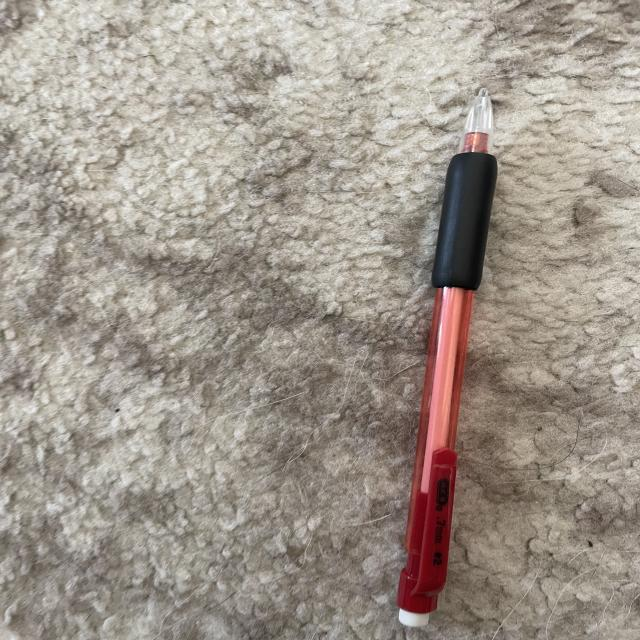mechanical-pencils: (398, 87, 498, 631)
